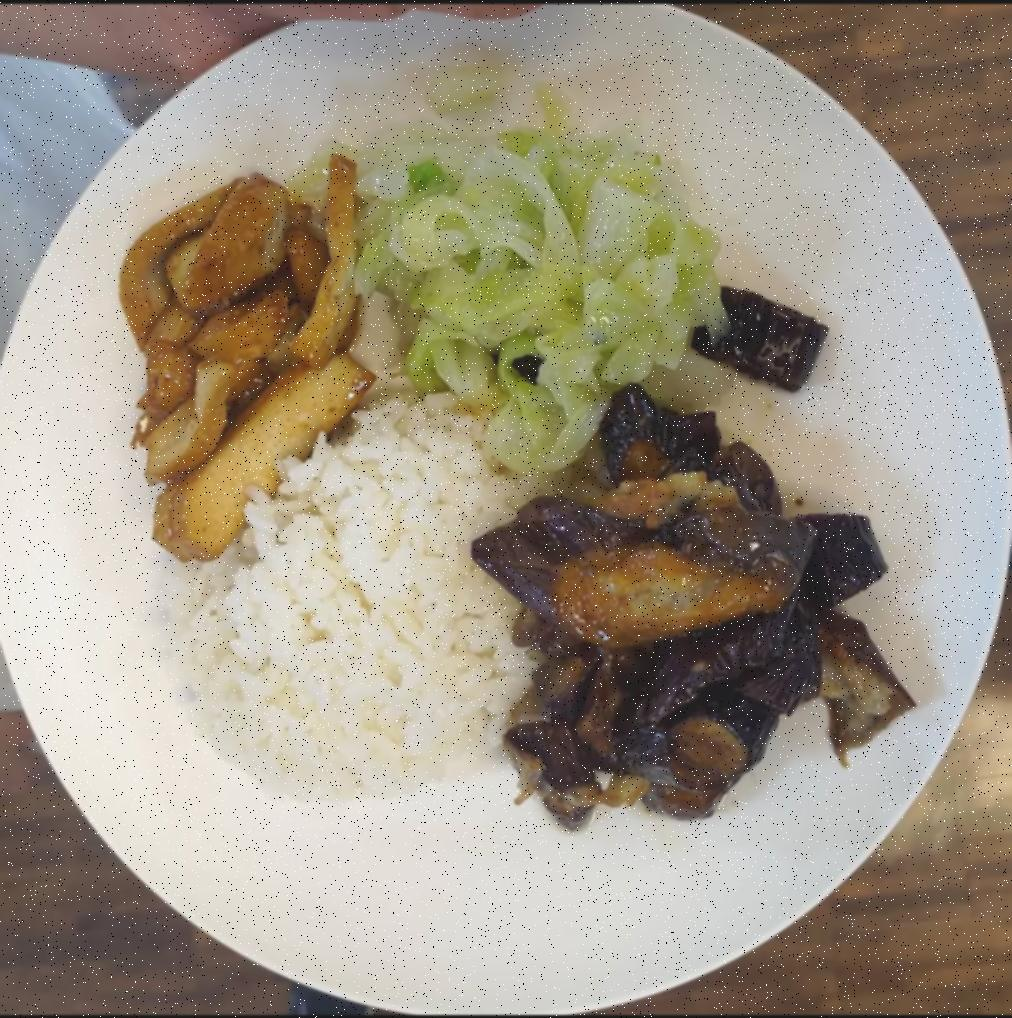plate: (15, 9, 1011, 1006)
side dish: (475, 290, 907, 846), (353, 96, 726, 476), (100, 154, 384, 556)
white rice: (160, 394, 561, 826)
